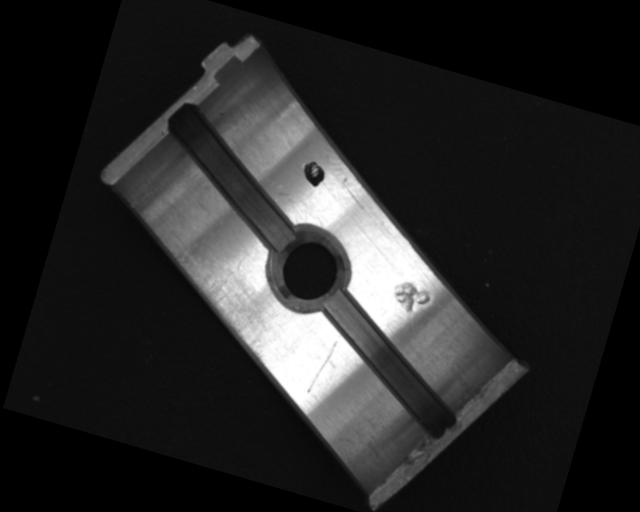blot: (298, 157, 328, 190)
bruise: (388, 278, 434, 321)
gap: (298, 289, 481, 443), (143, 100, 321, 253)
hole: (257, 217, 362, 322)
nick: (306, 330, 342, 397)
scratch: (141, 229, 297, 368)
